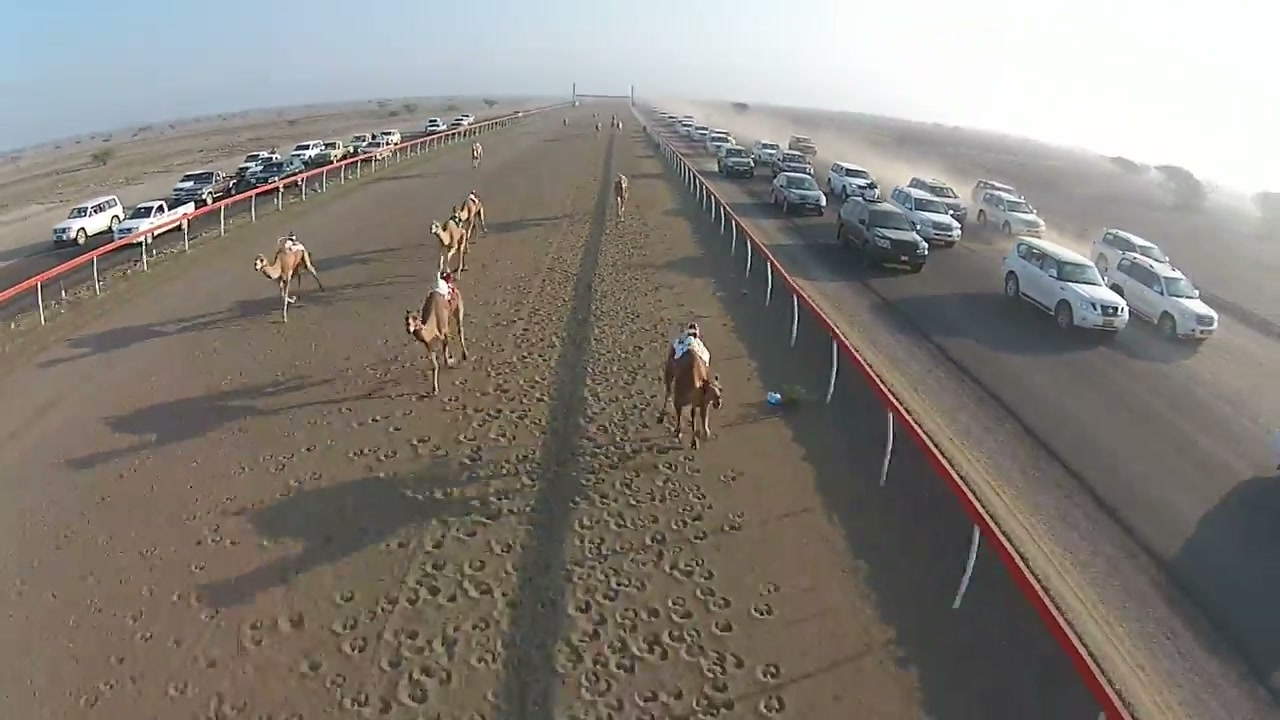animal_foot_print: (31, 163, 807, 719), (510, 220, 780, 716)
